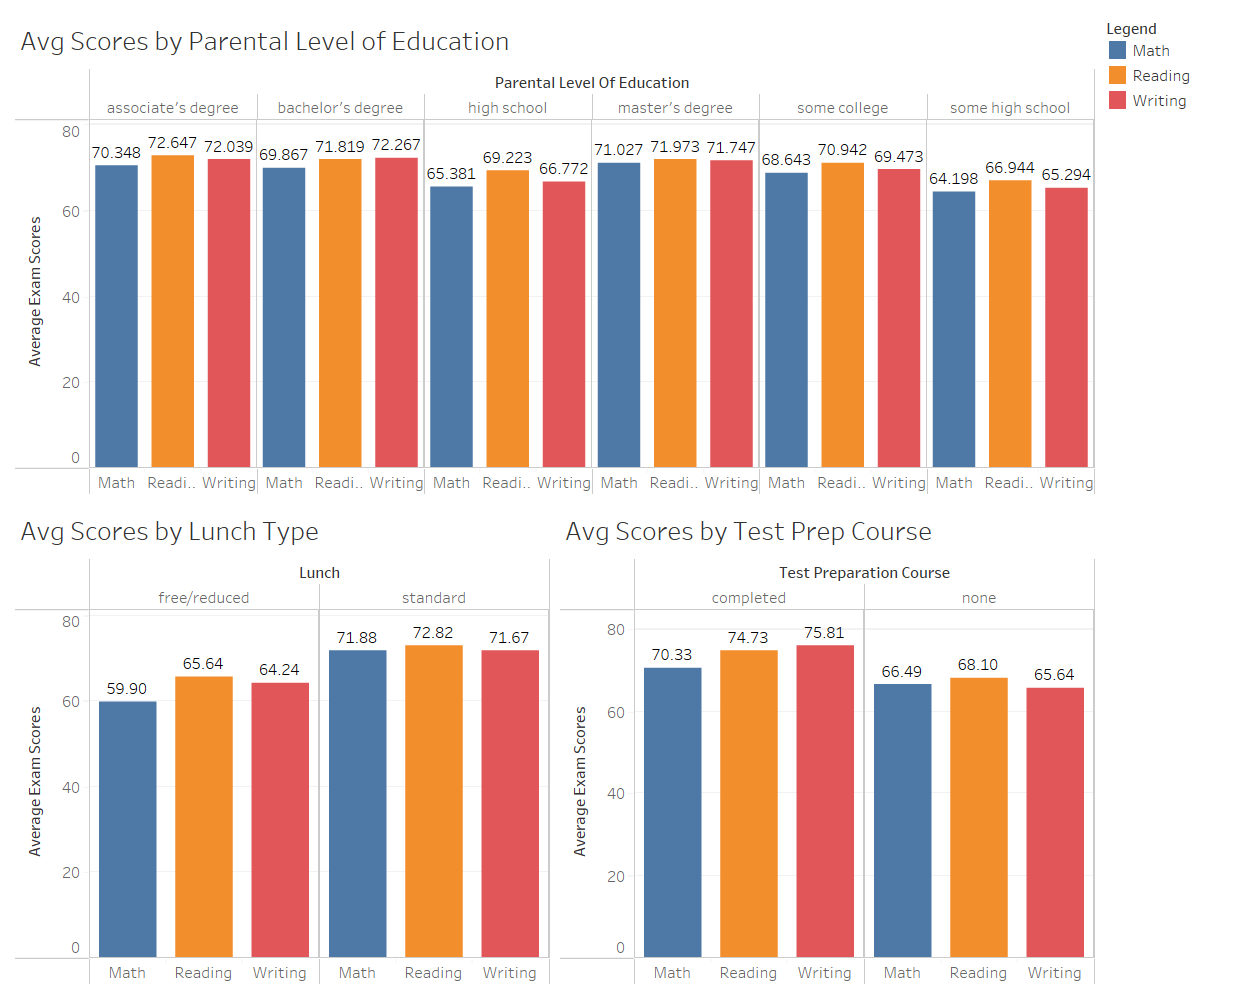

This screenshot's page, from the dashboard's own definition file:
{"tool":"tableau","page":{"name":"Avg Scores","canvas":[1000,800],"ordinal":3},"visuals":[{"type":"worksheet","title":"Avg Scores by Parental Level of Education","mark":"Automatic","cols":["parental level of education"],"box":[8,8,872,392]},{"type":"legend","title":"Avg Scores by Parental Level of Education","param":"[federated.1rpkfk31ospmxf11dudpf1u35wb3].[:Measure Names]","box":[880,8,112,86]},{"type":"worksheet","title":"Avg Scores by Lunch Type","mark":"Automatic","cols":["lunch"],"box":[8,400,436,392]},{"type":"worksheet","title":"Avg Scores by Test Prep Course","mark":"Automatic","cols":["test preparation course"],"box":[444,400,436,392]}]}

Visuals, with their boxes in screenshot pixels (x1, y1, x2, y2), scaled from the page's 1000x800 canvas onto the 1250x1000 screenshot:
"Avg Scores by Parental Level of Education" worksheet: rect(10, 10, 1100, 500)
"Avg Scores by Parental Level of Education" legend: rect(1100, 10, 1240, 118)
"Avg Scores by Lunch Type" worksheet: rect(10, 500, 555, 990)
"Avg Scores by Test Prep Course" worksheet: rect(555, 500, 1100, 990)
